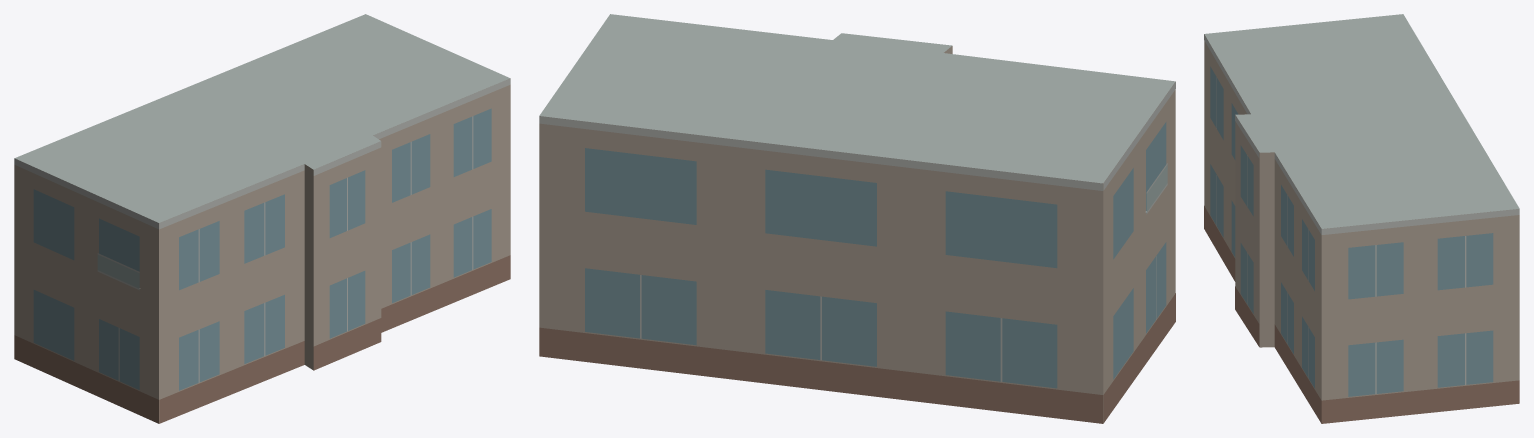
File: survey-upis-32616404.glb
The picture shows the model from 3 angles, left to right: view 1: azimuth 30°, elevation 25°; view 2: azimuth 150°, elevation 25°; view 3: azimuth 270°, elevation 25°; orthographic projection. The views are drawn at different scales.
Parts seen in each view (by area): view 1: survey-upis-32616404.tmp; view 2: survey-upis-32616404.tmp; view 3: survey-upis-32616404.tmp.
Part boxes in pixels (x1,y1,x2,y2): survey-upis-32616404.tmp: (14, 14, 510, 423); survey-upis-32616404.tmp: (539, 14, 1175, 423); survey-upis-32616404.tmp: (1204, 14, 1519, 423).
Bounding box in the file's own units: 18.23 × 7.7 × 11.31.
